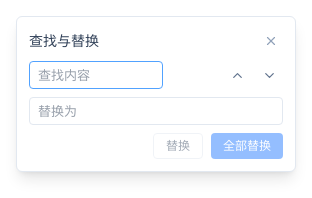
Test: SearchPanel › StrictMode 双挂载后计数仍能更新（mountedRef 回归测试）
This screenshot has width=312, height=198.
Type "关键词" into the field with placeholder "查找内容" at point(96, 75), box [29,61,163,89]
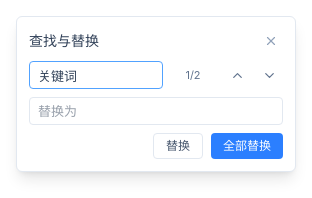
Result: the text "1/2" is shown at [185,68,201,82]
